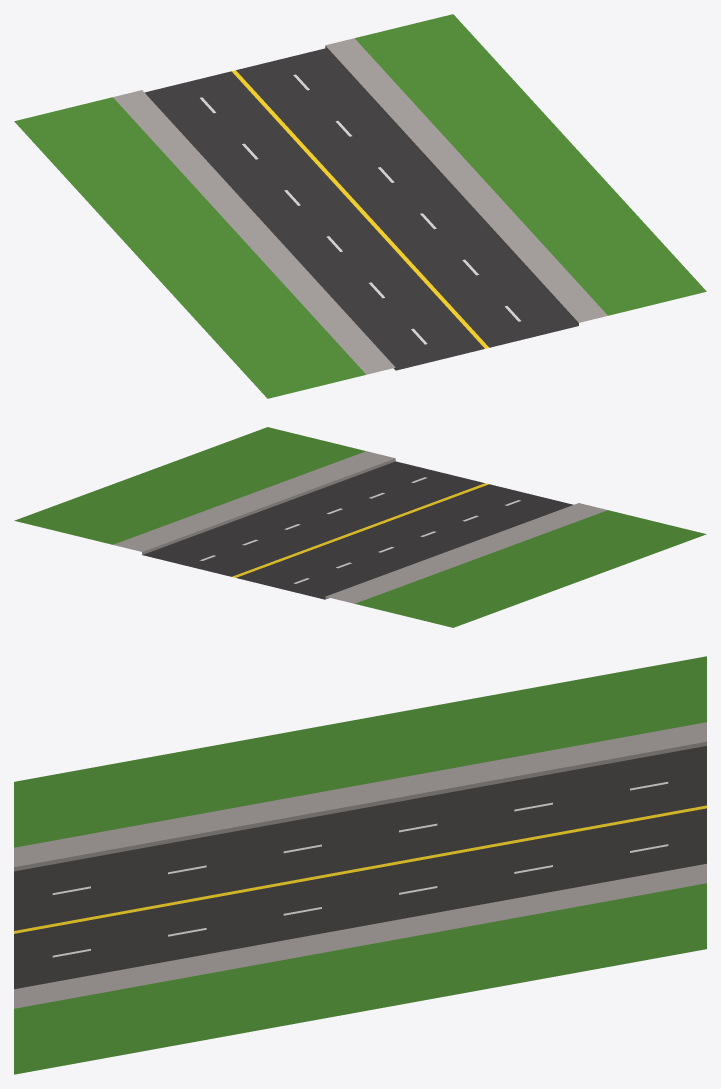
Rendered from tiles-nb_tile-mainroad-hill-nb.fbx.
The picture shows the model from 3 angles, top to bottom: view 1: azimuth 30°, elevation 25°; view 2: azimuth 150°, elevation 25°; view 3: azimuth 270°, elevation 25°; orthographic projection. The views are drawn at different scales.
Parts seen in each view (by area): view 1: tiles_nb_tile_mainroad_hill_nb; view 2: tiles_nb_tile_mainroad_hill_nb; view 3: tiles_nb_tile_mainroad_hill_nb.
Boxes of the visible parts, x1,y1,x2,y2 form: tiles_nb_tile_mainroad_hill_nb: [14, 14, 706, 398]; tiles_nb_tile_mainroad_hill_nb: [14, 427, 706, 627]; tiles_nb_tile_mainroad_hill_nb: [14, 656, 706, 1074].
Size of the model in its own units: 200 by 41.33 by 200.
